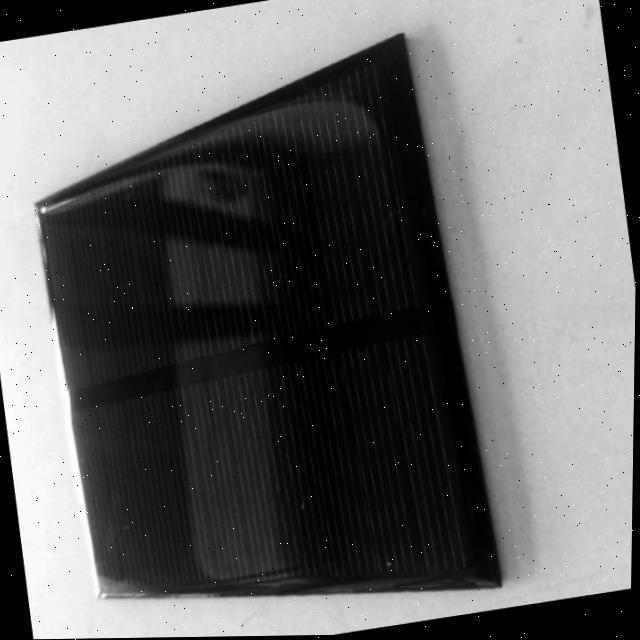Normal Solar Panel: (14, 30, 510, 640)
